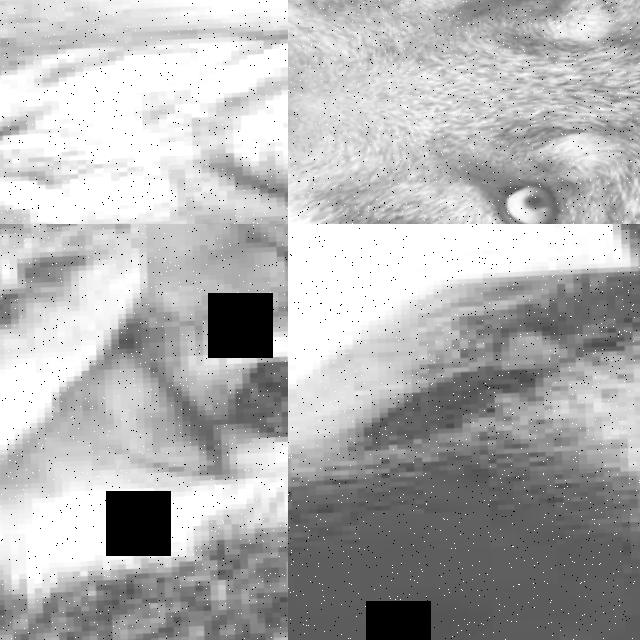dog: (288, 224, 640, 640), (0, 224, 288, 640), (0, 0, 288, 224)
wolf: (288, 0, 640, 224)
